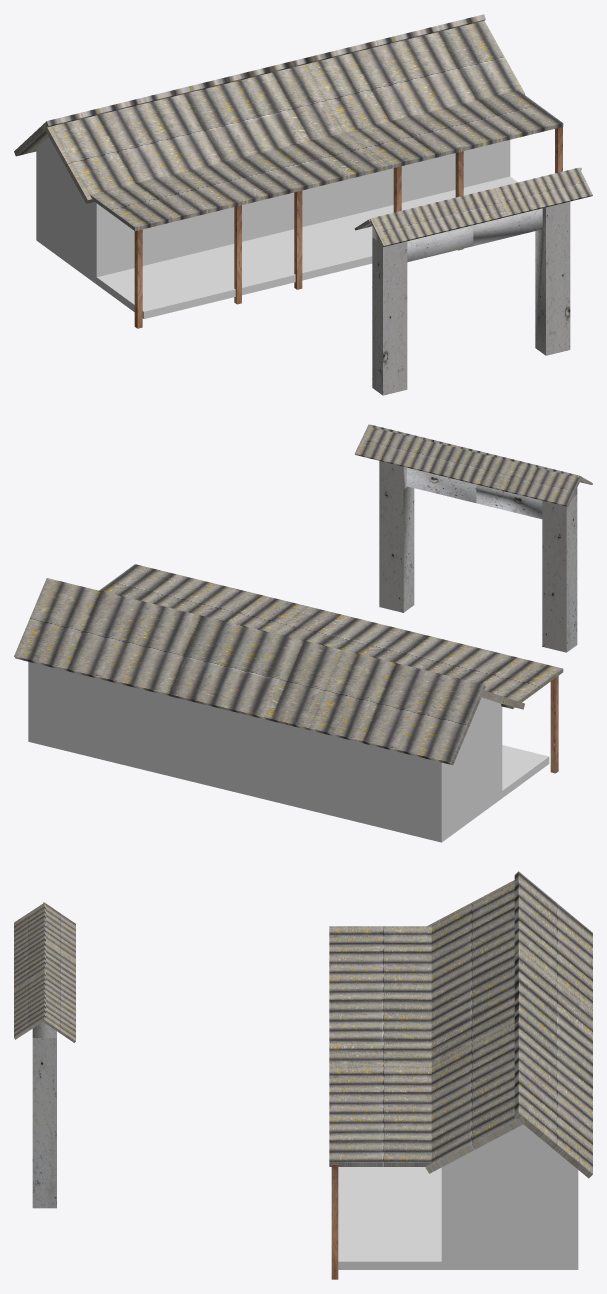
Rendered from Sekolah.fbx.
The picture shows the model from 3 angles, top to bottom: view 1: azimuth 30°, elevation 25°; view 2: azimuth 150°, elevation 25°; view 3: azimuth 270°, elevation 25°; orthographic projection. The views are drawn at different scales.
Parts seen in each view (by area): view 1: atap, Cube, atap.001, Cube.001, atap.004, Cube.007, atap.002; view 2: Cube, atap.002, atap.001, Cube.001, atap.003, Cube.007, atap.004; view 3: Cube, atap.001, atap, atap.002, Cube.001, atap.004, atap.003, Cube.007.
Boxes of the visible parts, box(x1,y1,x2,y2) form: atap: box(43, 20, 524, 203); Cube: box(36, 137, 517, 318); atap.001: box(90, 90, 563, 231); Cube.001: box(372, 201, 570, 395); atap.004: box(370, 167, 592, 246); Cube.007: box(134, 127, 562, 328); atap.002: box(14, 14, 485, 156); Cube: box(28, 661, 549, 842); atap.002: box(14, 578, 485, 765); atap.001: box(99, 564, 563, 708); Cube.001: box(379, 461, 577, 652); atap.003: box(354, 424, 581, 506); Cube.007: box(550, 676, 558, 773); atap.004: box(369, 424, 592, 484); Cube: box(338, 1124, 578, 1269); atap.001: box(329, 926, 431, 1166); atap: box(425, 880, 525, 1173); atap.002: box(514, 871, 592, 1178); Cube.001: box(32, 1022, 56, 1208); atap.004: box(14, 902, 45, 1039); atap.003: box(42, 902, 75, 1042); Cube.007: box(331, 1164, 338, 1279).
Bounding box in the file's own units: 2155 × 835 × 2183.
